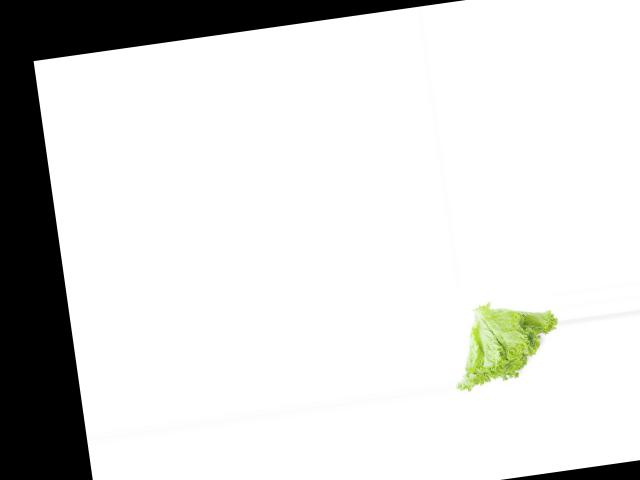lettuce: (444, 295, 567, 395)
